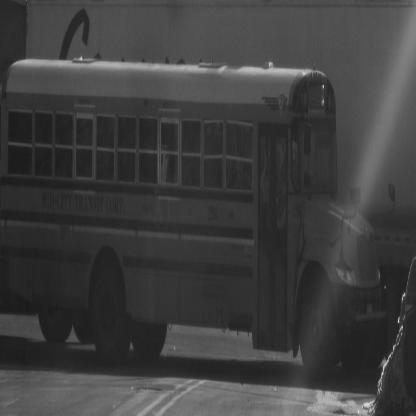bus: (3, 35, 394, 390)
